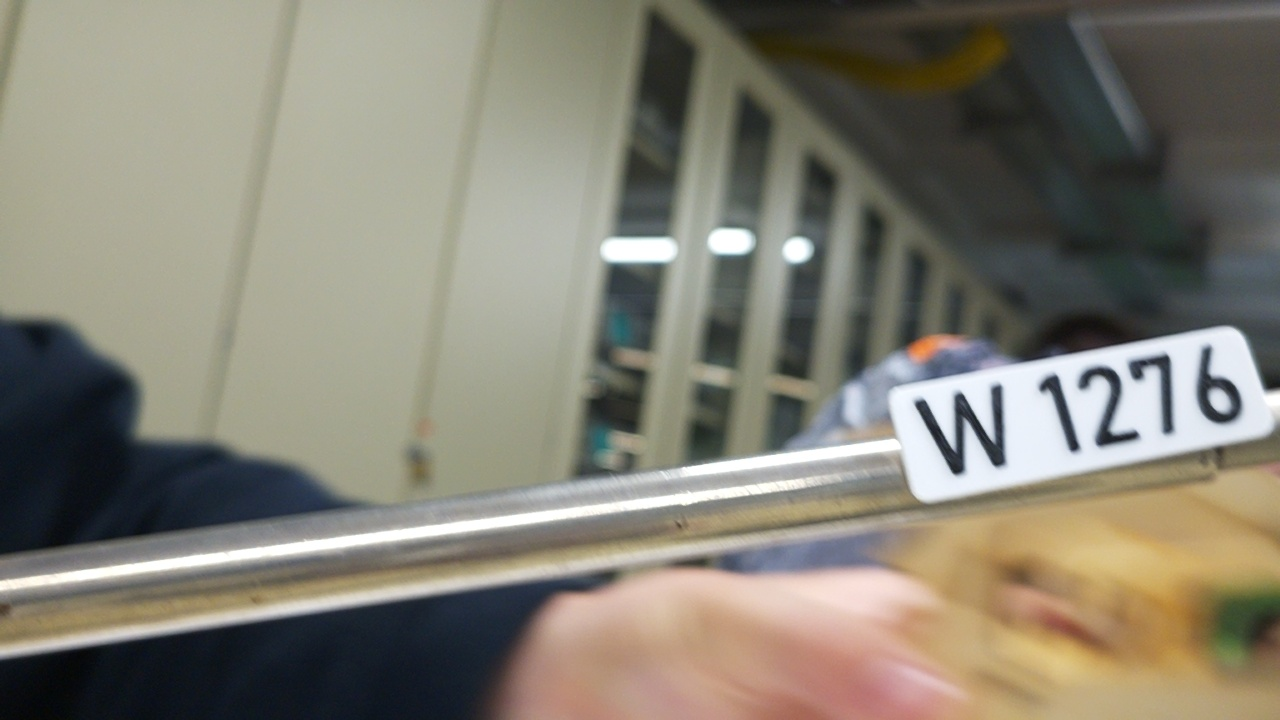license_plate: (881, 320, 1279, 509)
